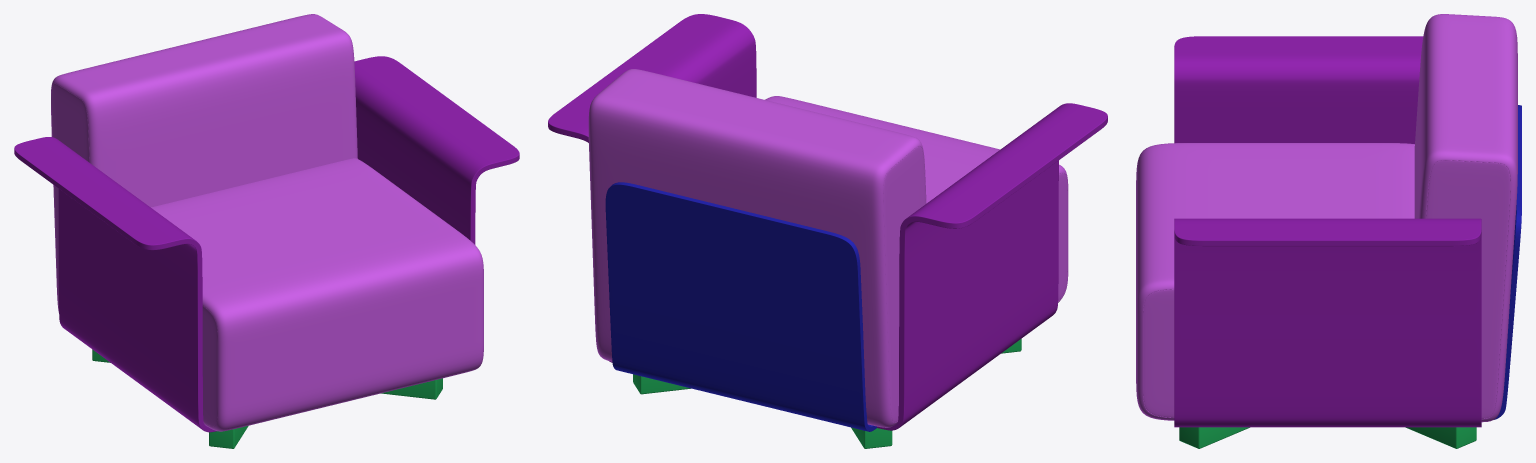
The model's file is Pebble__vray.obj.
3 views of the same model, side by side, from view 1: azimuth 30°, elevation 25°; view 2: azimuth 150°, elevation 25°; view 3: azimuth 270°, elevation 25° (orthographic). The views are drawn at different scales.
Visible parts, largest first — view 1: Pebble_002, Pebble_003, Pebble_004, Pebble_006, Pebble_001; view 2: Pebble_005, Pebble_004, Pebble_003, Pebble_002, Pebble_001, Pebble_006; view 3: Pebble_003, Pebble_002, Pebble_004, Pebble_005, Pebble_001, Pebble_006.
Part boxes in pixels (bbox=[...]): Pebble_002: bbox=[151, 158, 483, 431]; Pebble_003: bbox=[14, 56, 519, 432]; Pebble_004: bbox=[51, 14, 357, 312]; Pebble_006: bbox=[92, 349, 442, 399]; Pebble_001: bbox=[209, 425, 248, 448]; Pebble_005: bbox=[605, 182, 876, 431]; Pebble_004: bbox=[588, 69, 926, 427]; Pebble_003: bbox=[548, 14, 1107, 430]; Pebble_002: bbox=[765, 96, 1068, 302]; Pebble_001: bbox=[633, 339, 1021, 394]; Pebble_006: bbox=[851, 427, 892, 448]; Pebble_003: bbox=[1174, 36, 1481, 427]; Pebble_002: bbox=[1136, 143, 1414, 420]; Pebble_004: bbox=[1414, 14, 1517, 422]; Pebble_005: bbox=[1494, 105, 1521, 419]; Pebble_001: bbox=[1405, 427, 1476, 448]; Pebble_006: bbox=[1179, 427, 1249, 448].
Bounding box in the file's own units: 996 × 692 × 795.
